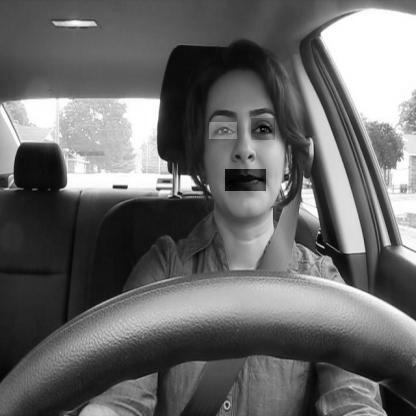seatbelt: (167, 25, 309, 416)
